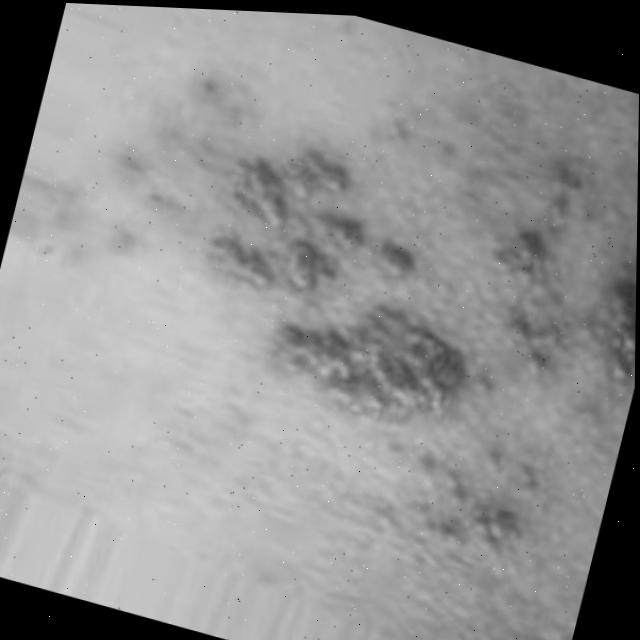Shingles: (0, 0, 640, 598)
